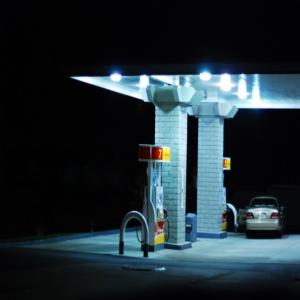Vehicle-registration-plate: (259, 213, 268, 219)
